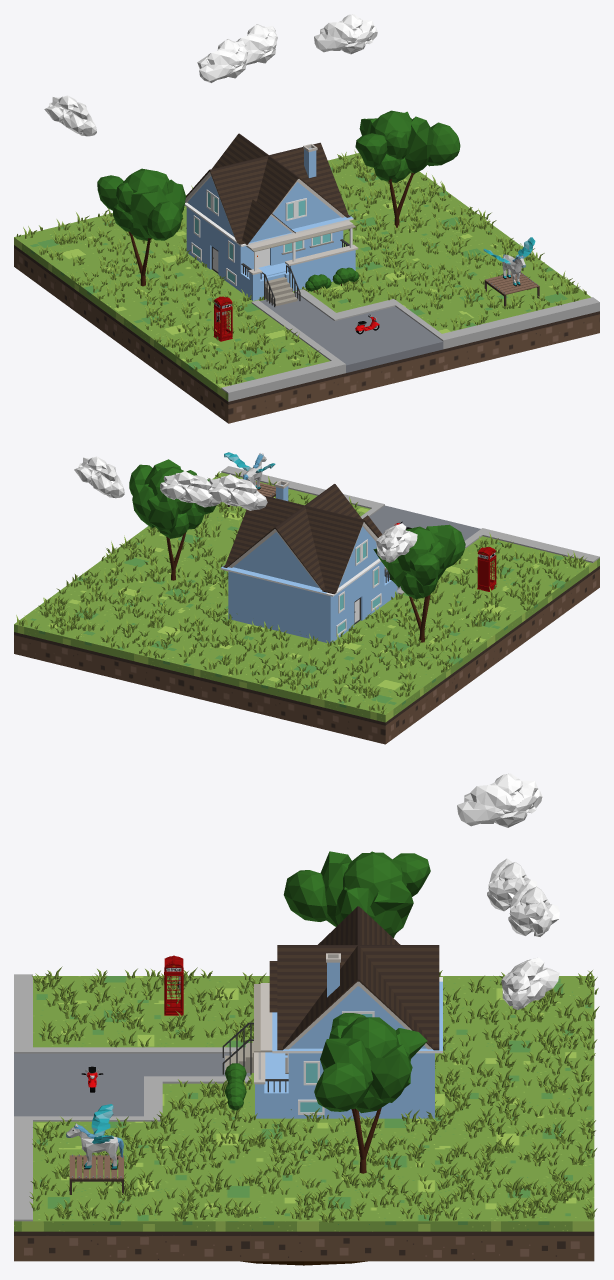
3 views of the same model, one above another, from view 1: azimuth 30°, elevation 25°; view 2: azimuth 150°, elevation 25°; view 3: azimuth 270°, elevation 25° (orthographic). The views are drawn at different scales.
Parts seen in each view (by area): view 1: Cube.006, Cube.1594, Circle.012_Grass_0.192, Cube.007, tree, tree.001, ANIMAL_PEGASO, OBJRANDOM_PHONEBOOTH, Cube.009; view 2: Cube.006, Cube.1594, Circle.012_Grass_0.192, Cube.007, tree.001, tree, OBJRANDOM_PHONEBOOTH, ANIMAL_PEGASO; view 3: Cube.006, Circle.012_Grass_0.192, Cube.1594, tree, Cube.007, tree.001, ANIMAL_PEGASO, Cube.009, OBJRANDOM_PHONEBOOTH.
Boxes of the visible parts, x1,y1,x2,y2 form: Cube.006: (14, 153, 599, 423); Cube.1594: (184, 133, 358, 307); Circle.012_Grass_0.192: (16, 150, 586, 385); Cube.007: (44, 14, 377, 136); tree: (355, 110, 460, 227); tree.001: (97, 168, 185, 286); ANIMAL_PEGASO: (483, 237, 535, 286); OBJRANDOM_PHONEBOOTH: (213, 296, 232, 341); Cube.009: (484, 272, 539, 306); Cube.006: (14, 466, 599, 744); Cube.1594: (220, 480, 397, 643); Circle.012_Grass_0.192: (16, 471, 586, 713); Cube.007: (74, 456, 417, 562); tree.001: (373, 524, 465, 642); tree: (129, 459, 216, 580); OBJRANDOM_PHONEBOOTH: (477, 547, 496, 591); ANIMAL_PEGASO: (224, 452, 275, 489); Cube.006: (14, 974, 594, 1261); Circle.012_Grass_0.192: (29, 966, 599, 1222); Cube.1594: (222, 906, 442, 1118); tree: (314, 1013, 427, 1173); Cube.007: (457, 773, 559, 1009); tree.001: (283, 851, 430, 937); ANIMAL_PEGASO: (66, 1104, 123, 1169); Cube.009: (69, 1154, 123, 1194); OBJRANDOM_PHONEBOOTH: (164, 955, 183, 1015).
Size of the model in its own units: 4071 by 2242 by 4040.
Materials: 46 (3 with a texture image).
